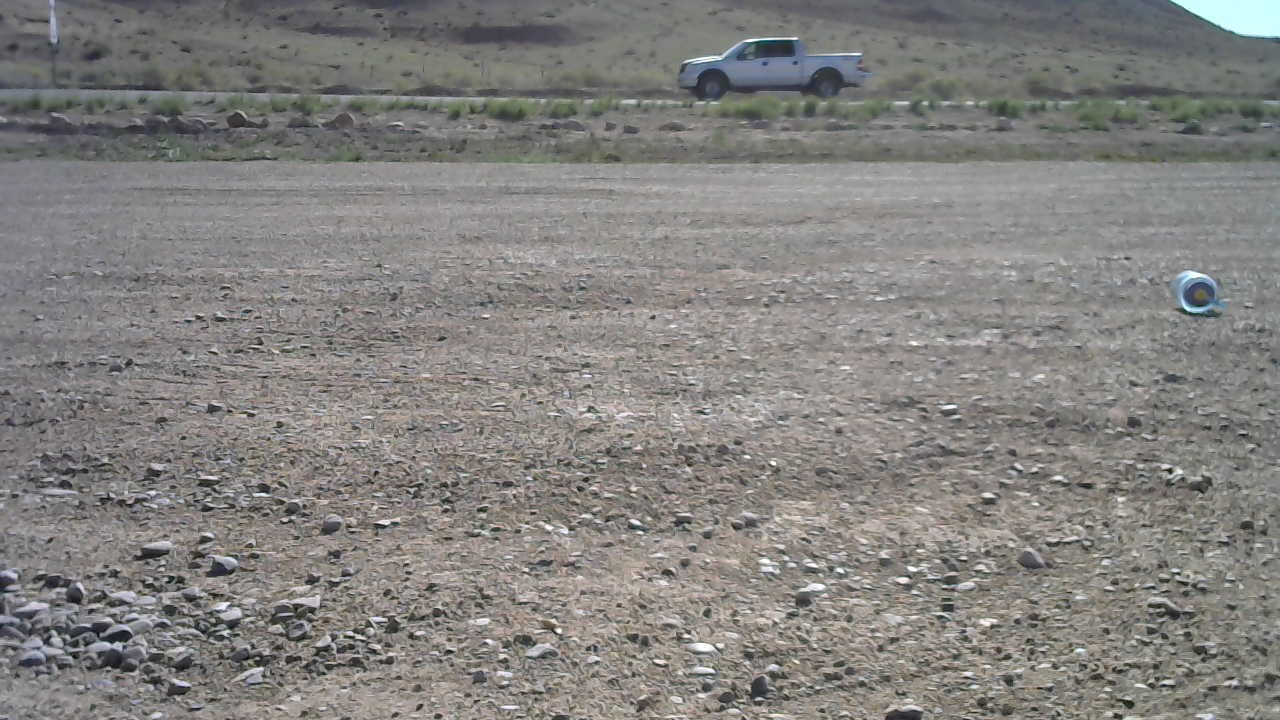bottle: (1167, 266, 1227, 312)
